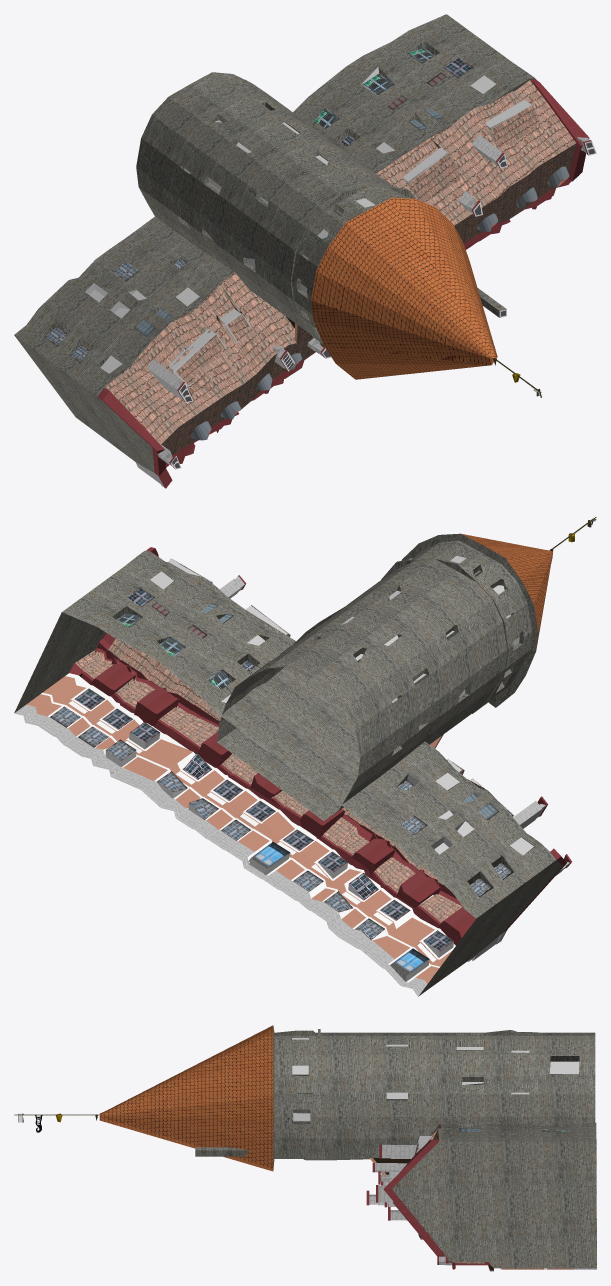
File: Kooli_7-origo.obj
The picture shows the model from 3 angles, top to bottom: view 1: azimuth 30°, elevation 25°; view 2: azimuth 150°, elevation 25°; view 3: azimuth 270°, elevation 25°; orthographic projection. The views are drawn at different scales.
Visible parts, largest first — view 1: Kooli_7; view 2: Kooli_7; view 3: Kooli_7.
Part boxes in pixels (x1,y1,x2,y2): Kooli_7: (14, 14, 596, 488); Kooli_7: (14, 517, 596, 996); Kooli_7: (14, 1025, 596, 1271).
Bounding box in the file's own units: 36.44 × 23.5 × 42.75.
